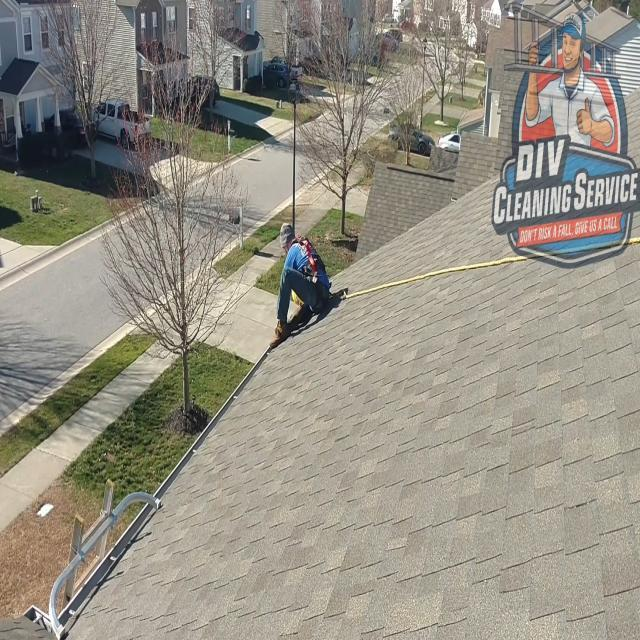belt: (290, 230, 334, 315)
